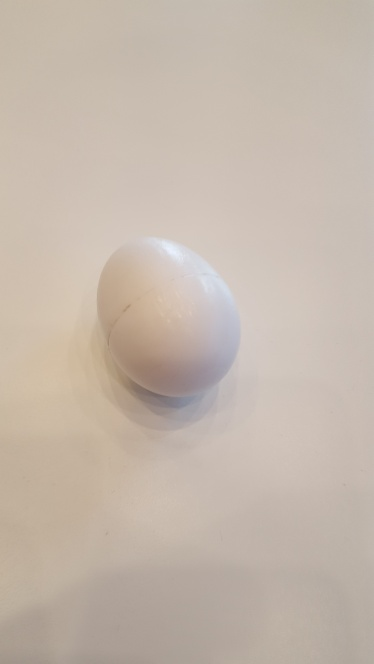egg: (96, 236, 242, 403)
